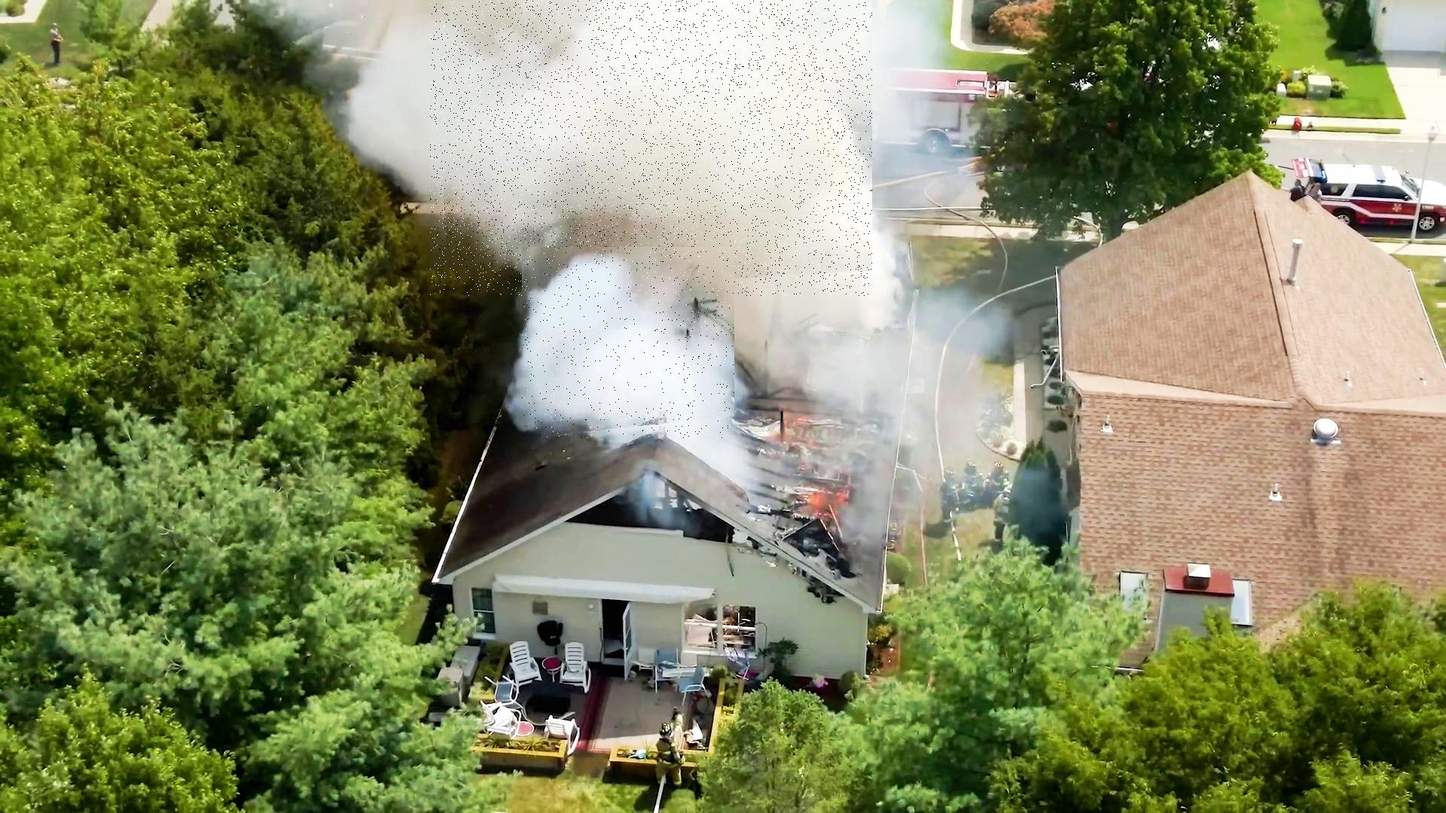smoke: (430, 0, 872, 296), (522, 247, 734, 438)
